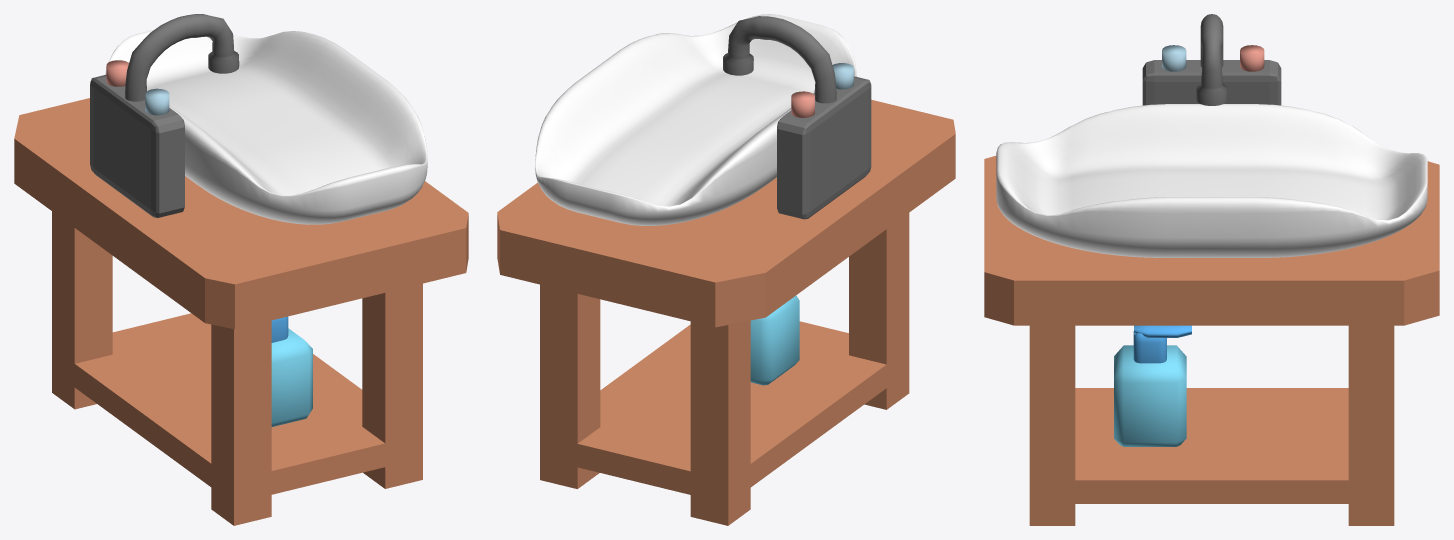
The model's file is sink.fbx.
3 views of the same model, side by side, from view 1: azimuth 30°, elevation 25°; view 2: azimuth 150°, elevation 25°; view 3: azimuth 270°, elevation 25° (orthographic).
Parts seen in each view (by area): view 1: Cube, Cube.001, Cube.002, Cylinder, Cube.003, Cylinder.001, Cylinder.002; view 2: Cube, Cube.001, Cube.002, Cylinder, Cube.003, Cylinder.002; view 3: Cube, Cube.001, Cube.003, Cube.002, Cylinder, Cube.004, Cube.005, Cylinder.001, Cylinder.002.
Part boxes in pixels (x1,y1,x2,y2): Cube: [14, 98, 468, 525]; Cube.001: [105, 30, 427, 224]; Cube.002: [90, 74, 184, 217]; Cylinder: [125, 14, 239, 101]; Cube.003: [271, 328, 312, 426]; Cylinder.001: [145, 88, 169, 115]; Cylinder.002: [106, 60, 128, 86]; Cube: [497, 99, 955, 525]; Cube.001: [535, 14, 856, 225]; Cube.002: [777, 76, 871, 219]; Cylinder: [723, 16, 836, 103]; Cube.003: [750, 295, 799, 385]; Cylinder.002: [791, 91, 814, 117]; Cube: [984, 156, 1439, 525]; Cube.001: [996, 104, 1427, 257]; Cube.003: [1114, 345, 1186, 446]; Cube.002: [1142, 60, 1281, 105]; Cylinder: [1196, 14, 1227, 105]; Cube.004: [1133, 331, 1166, 363]; Cube.005: [1134, 325, 1191, 337]; Cylinder.001: [1162, 45, 1186, 71]; Cylinder.002: [1240, 45, 1264, 71].
Size of the model in its own units: 200 by 312 by 298.
